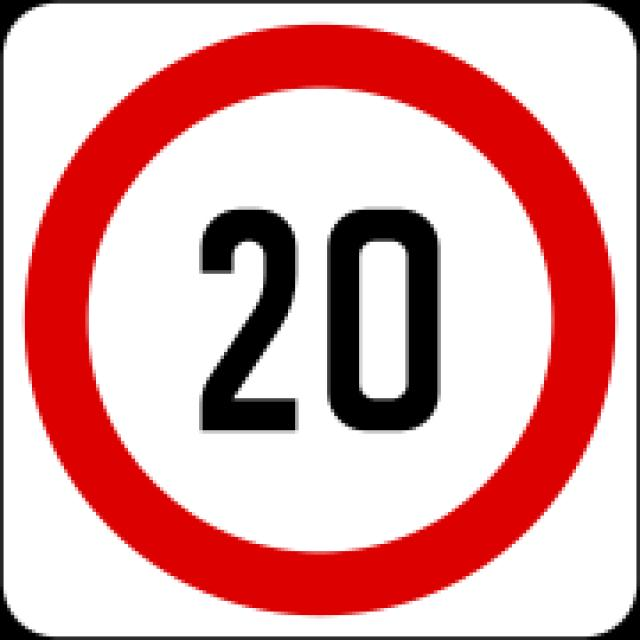Speed Limit -20-: (197, 203, 452, 440)
